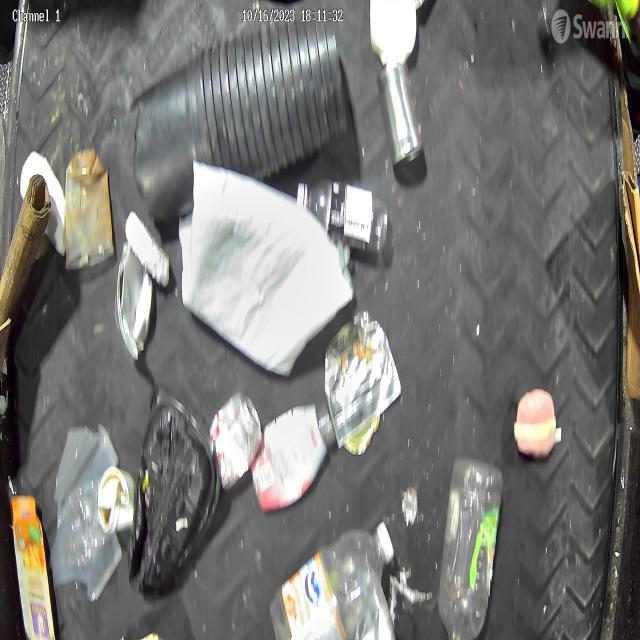can: (216, 396, 259, 482)
plastic_bottle: (269, 517, 394, 640), (438, 463, 502, 640), (292, 177, 386, 240)
